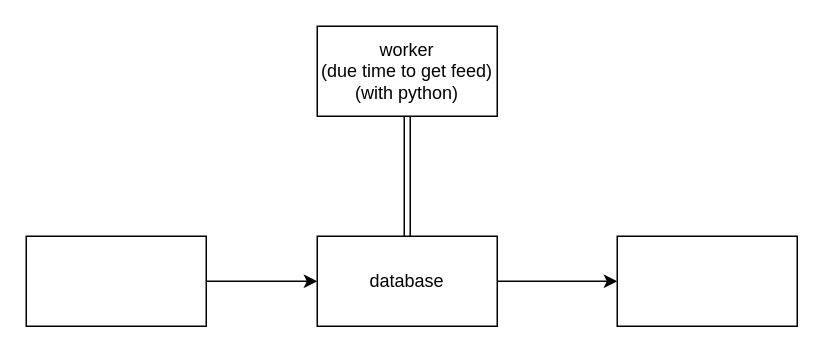
The diagram is 824 pixels wide and 353 high, and some of its shapes have lost their labels. Here are the shapes that lost their labels. From the top down, the centre of each, then its label:
point (115, 280): input source needed to subcribe
point (706, 280): show info (web)
